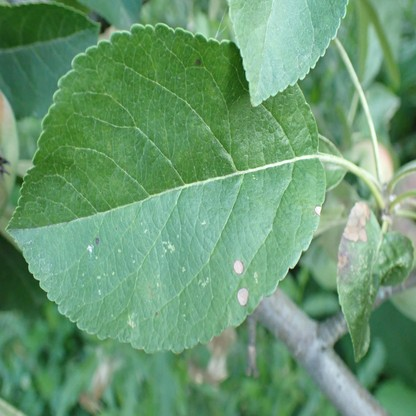frogeye: (344, 201, 371, 241), (338, 249, 352, 271), (238, 288, 249, 307), (233, 259, 245, 274), (315, 204, 322, 216), (95, 237, 99, 244)
